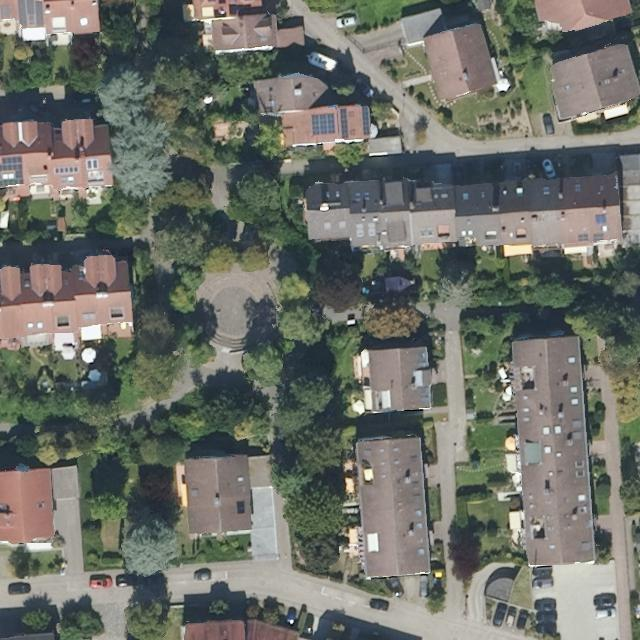PV: (309, 111, 336, 136), (19, 2, 44, 27), (0, 154, 24, 177), (361, 104, 372, 136), (339, 107, 349, 141), (53, 165, 81, 175)
